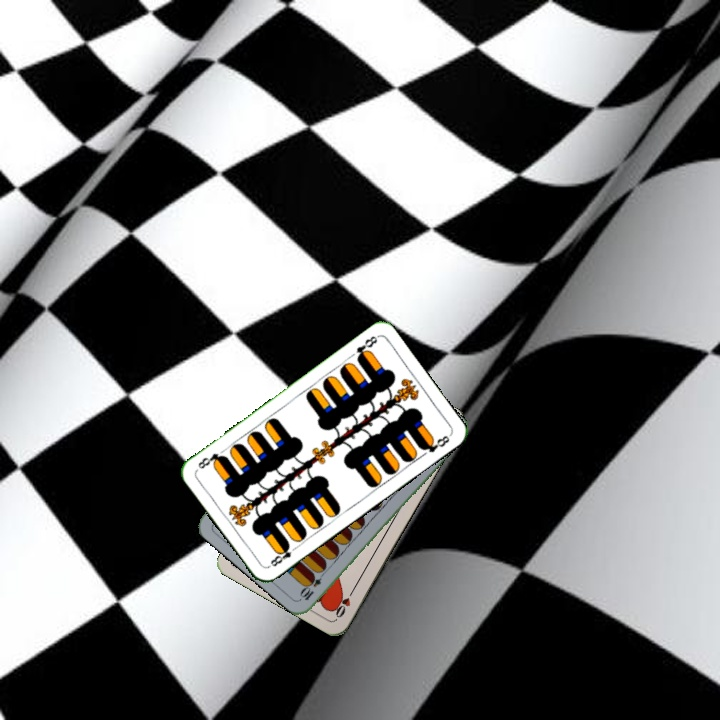E10: (297, 567, 328, 603)
E8: (264, 540, 300, 570), (352, 332, 380, 363)
HO: (330, 584, 357, 620)
